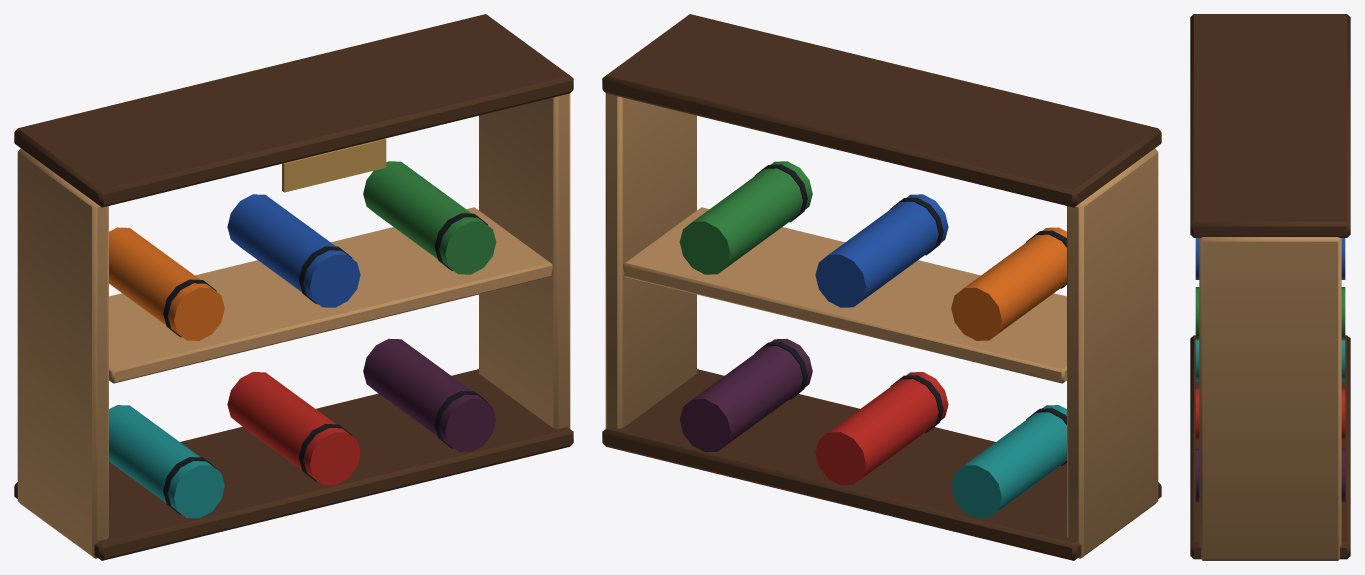
Rendered from gym_yoga_mat_rack.glb.
The picture shows the model from 3 angles, left to right: view 1: azimuth 30°, elevation 25°; view 2: azimuth 150°, elevation 25°; view 3: azimuth 270°, elevation 25°; orthographic projection. The views are drawn at different scales.
Visible parts, largest first — view 1: gym_yoga_mat_rack; view 2: gym_yoga_mat_rack; view 3: gym_yoga_mat_rack.
Boxes of the visible parts, x1,y1,x2,y2 form: gym_yoga_mat_rack: (14, 14, 573, 560); gym_yoga_mat_rack: (602, 14, 1161, 560); gym_yoga_mat_rack: (1190, 14, 1350, 560).
Size of the model in its own units: 1.41 by 1.05 by 0.45.
